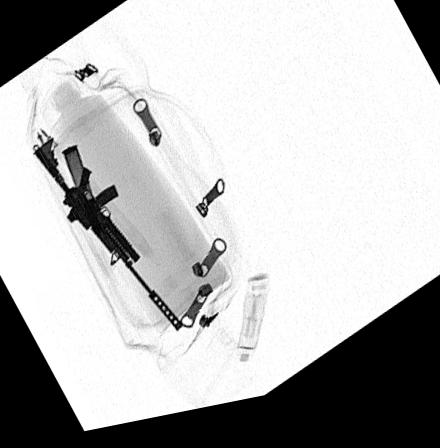Bullet: (62, 148, 96, 239)
Gun: (32, 138, 183, 338)
